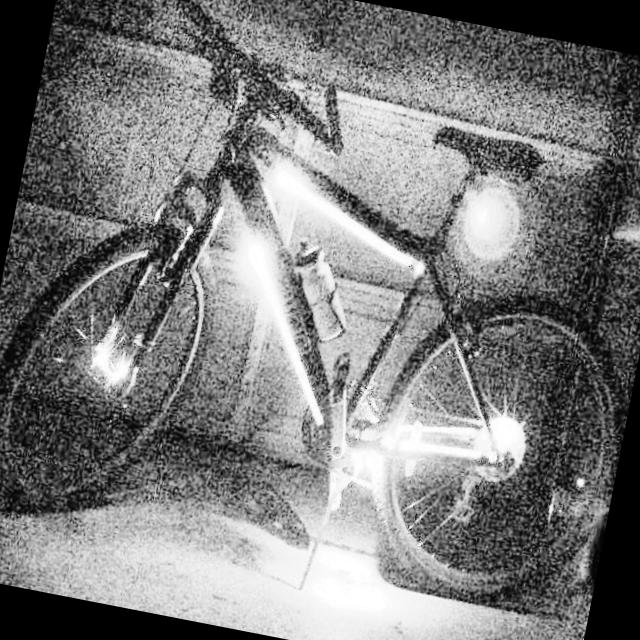Bicycle: (4, 10, 640, 603)
